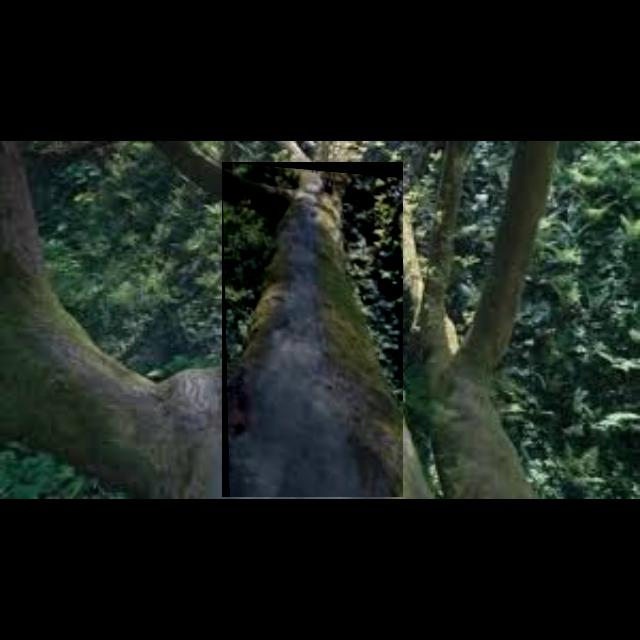Fallen Tree: (222, 162, 404, 498)
